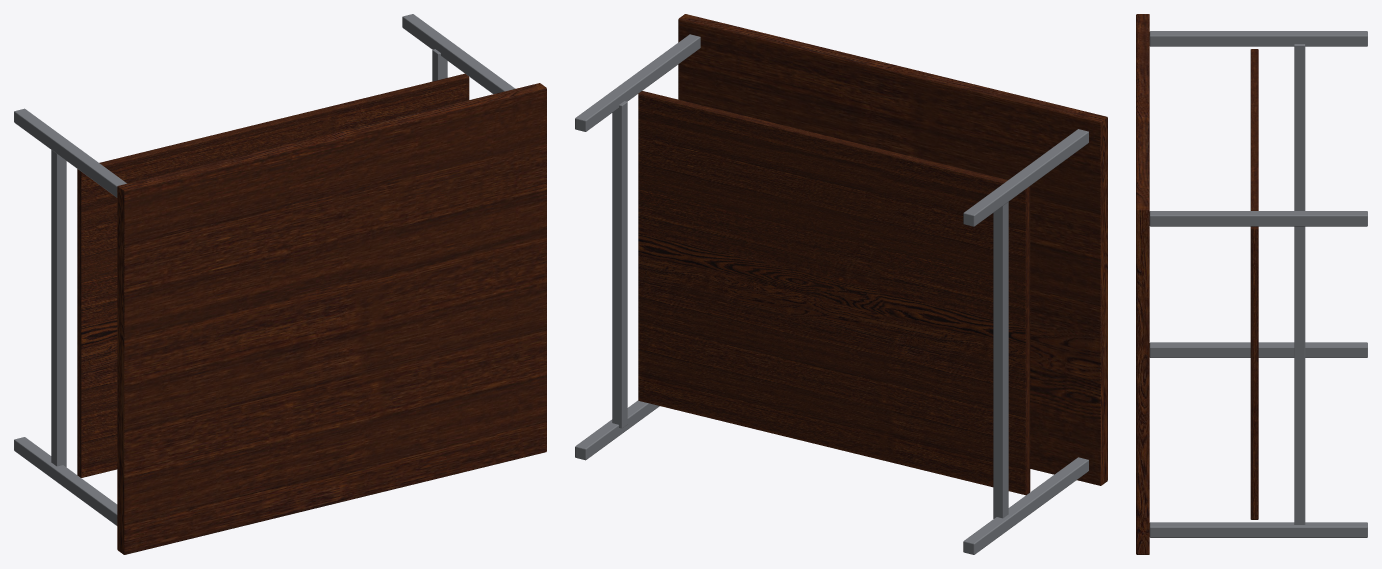
The model's file is drone_bench_table.glb.
3 renders of one model, left to right at view 1: azimuth 30°, elevation 25°; view 2: azimuth 150°, elevation 25°; view 3: azimuth 270°, elevation 25°, orthographic. The views are drawn at different scales.
Visible parts, largest first — view 1: DB_TABLE_top, DB_TABLE_SHELF, DB_TABLE_STRETCHER, DB_TABLE_LEG_-0.78+0.63, DB_TABLE_LEG_+0.78+0.63, DB_TABLE_LEG_-0.78-0.63; view 2: DB_TABLE_SHELF, DB_TABLE_top, DB_TABLE_STRETCHER.001, DB_TABLE_STRETCHER, DB_TABLE_LEG_-0.78+0.63, DB_TABLE_LEG_+0.78+0.63, DB_TABLE_LEG_-0.78-0.63, DB_TABLE_LEG_+0.78-0.63; view 3: DB_TABLE_top, DB_TABLE_SHELF, DB_TABLE_STRETCHER.001, DB_TABLE_LEG_+0.78+0.63, DB_TABLE_LEG_+0.78-0.63, DB_TABLE_LEG_-0.78+0.63, DB_TABLE_LEG_-0.78-0.63, DB_TABLE_STRETCHER.
Boxes of the visible parts, x1=… form: DB_TABLE_top: x1=117, y1=83, x2=546, y2=554; DB_TABLE_SHELF: x1=77, y1=73, x2=469, y2=477; DB_TABLE_STRETCHER: x1=51, y1=150, x2=66, y2=466; DB_TABLE_LEG_-0.78+0.63: x1=14, y1=108, x2=126, y2=197; DB_TABLE_LEG_+0.78+0.63: x1=402, y1=14, x2=515, y2=94; DB_TABLE_LEG_-0.78-0.63: x1=14, y1=437, x2=117, y2=525; DB_TABLE_SHELF: x1=638, y1=91, x2=1030, y2=495; DB_TABLE_top: x1=678, y1=14, x2=1107, y2=485; DB_TABLE_STRETCHER.001: x1=612, y1=101, x2=627, y2=428; DB_TABLE_STRETCHER: x1=993, y1=202, x2=1008, y2=518; DB_TABLE_LEG_-0.78+0.63: x1=963, y1=129, x2=1088, y2=226; DB_TABLE_LEG_+0.78+0.63: x1=575, y1=34, x2=700, y2=131; DB_TABLE_LEG_-0.78-0.63: x1=963, y1=457, x2=1088, y2=554; DB_TABLE_LEG_+0.78-0.63: x1=575, y1=400, x2=659, y2=460; DB_TABLE_top: x1=1136, y1=14, x2=1149, y2=554; DB_TABLE_SHELF: x1=1250, y1=49, x2=1258, y2=519; DB_TABLE_STRETCHER.001: x1=1294, y1=226, x2=1305, y2=524; DB_TABLE_LEG_+0.78+0.63: x1=1149, y1=211, x2=1367, y2=226; DB_TABLE_LEG_+0.78-0.63: x1=1149, y1=522, x2=1367, y2=537; DB_TABLE_LEG_-0.78+0.63: x1=1149, y1=31, x2=1367, y2=46; DB_TABLE_LEG_-0.78-0.63: x1=1149, y1=342, x2=1367, y2=357; DB_TABLE_STRETCHER: x1=1294, y1=44, x2=1305, y2=210.
Bounding box in the file's own units: 1.7 × 1.4 × 0.85.
Materials: 3 (2 with a texture image).
